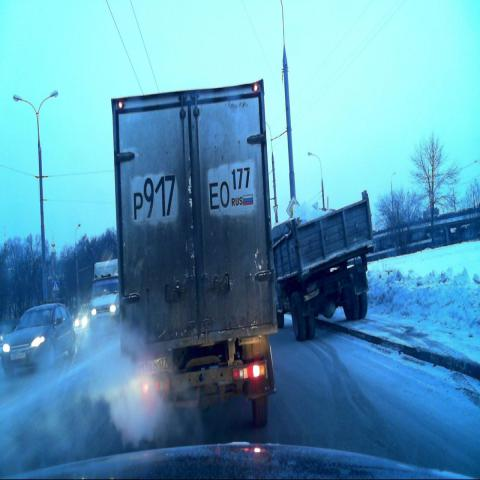5_19_1: (51, 278, 60, 293)
